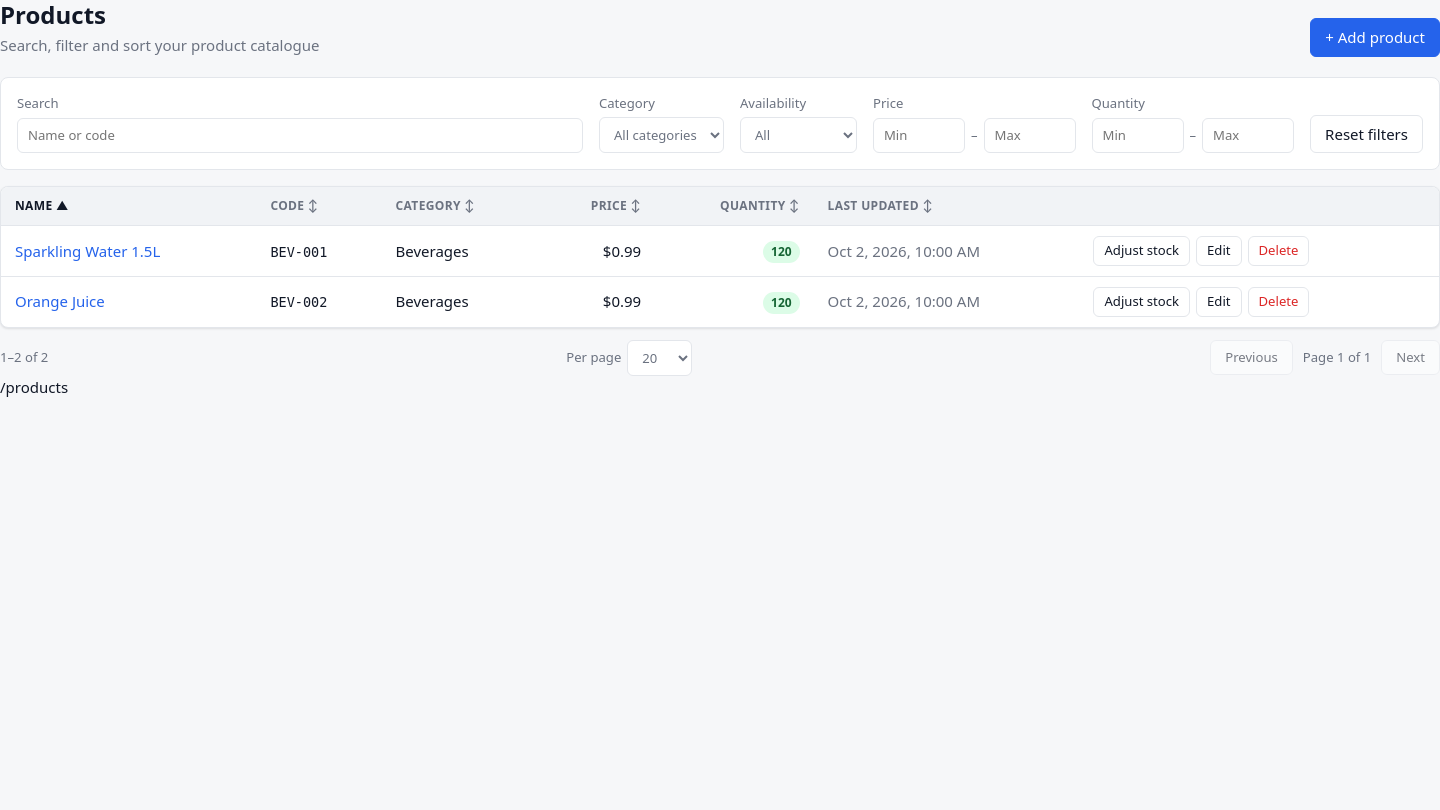
ProductsPage › shows a toast when deleting fails
Expected: the link "Orange Juice" is shown, [15,292,105,312]
Click the button "Delete" in the row of "Sparkling Water 1.5L" at [1278, 251], box [1248,236,1309,266]
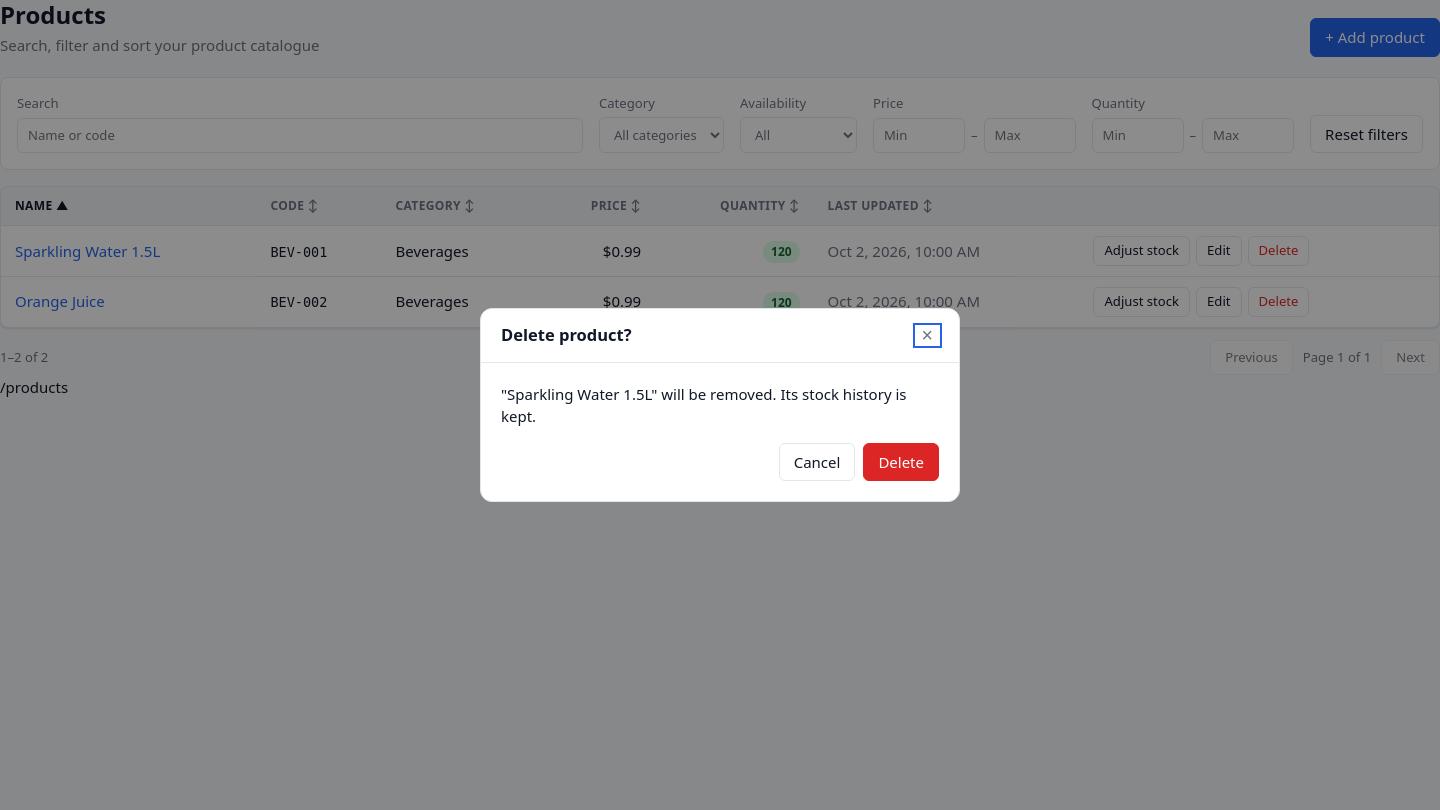
Click the button "Delete" at [901, 462], box [863,443,939,481]
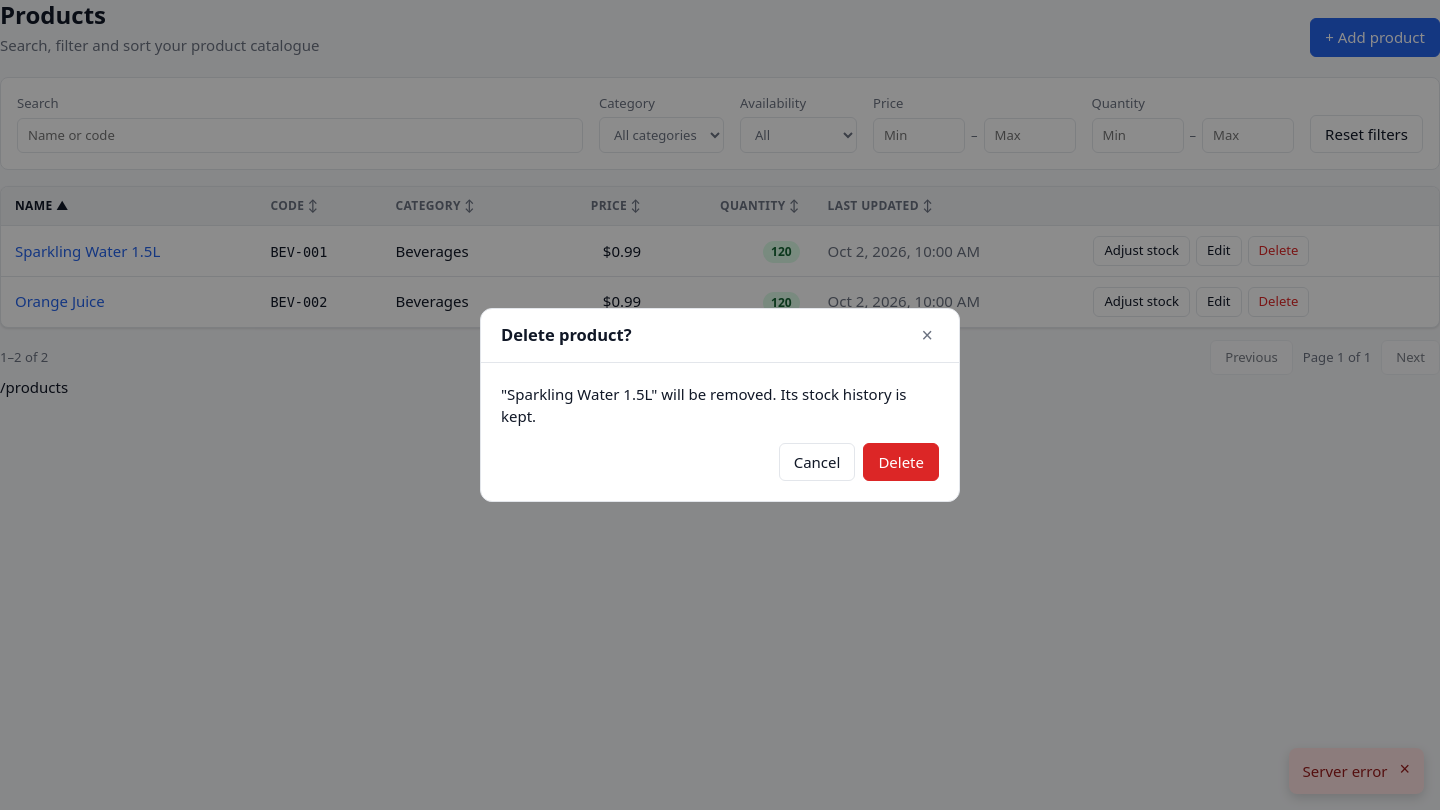
Now the text "Server error" is shown, box [1303,760,1388,782]
